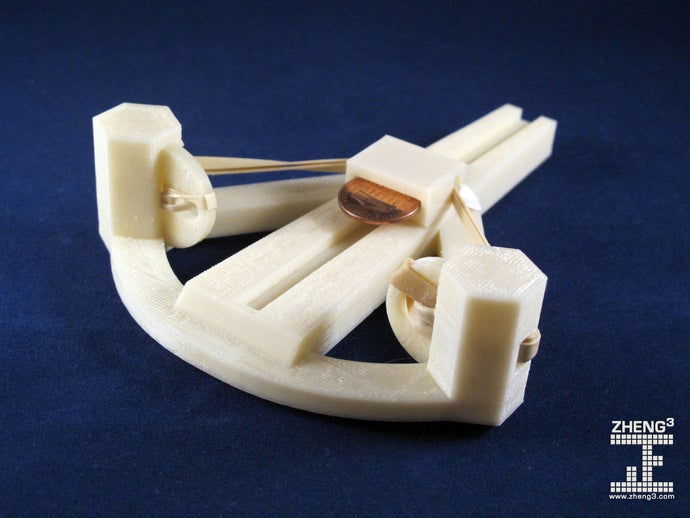Good: (75, 53, 589, 433)
